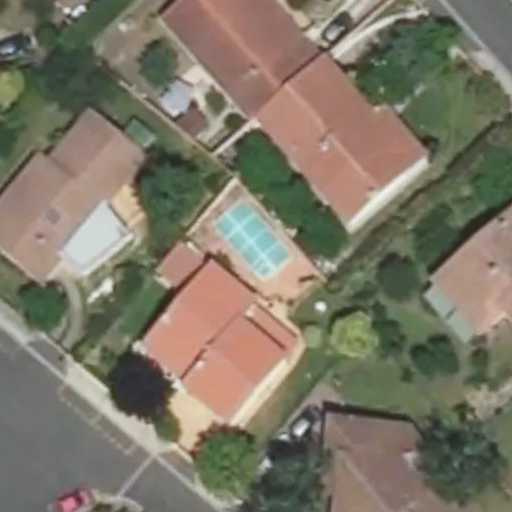pool: (216, 226, 295, 256)
